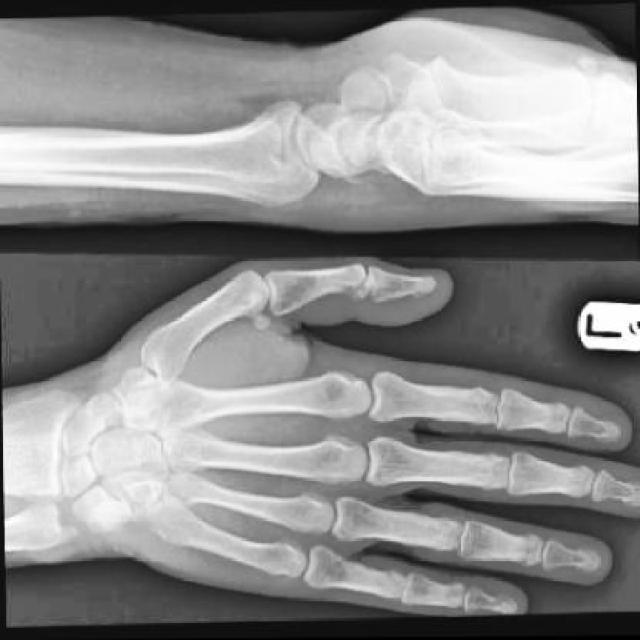Fracture: (325, 156, 382, 195), (82, 497, 119, 533)
